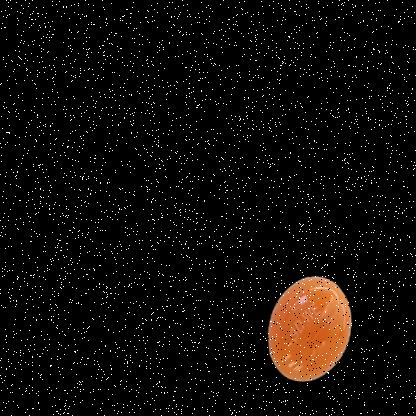welood: (245, 242, 379, 394)
